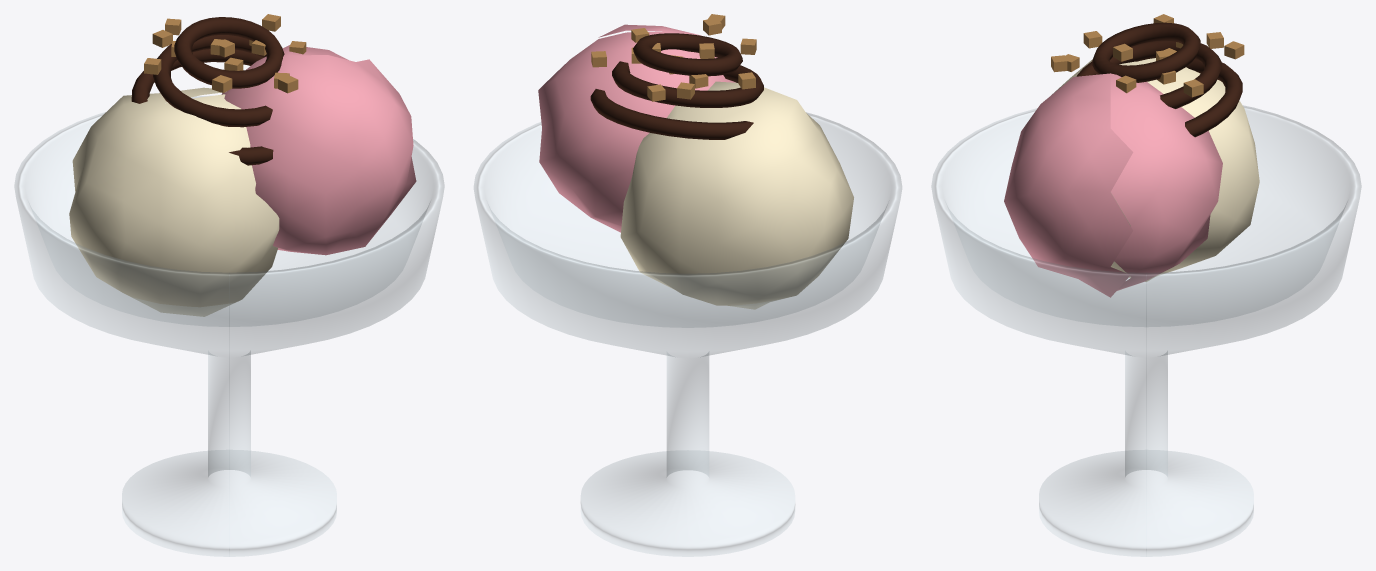
File: sorvete.glb
3 renders of one model, left to right at view 1: azimuth 30°, elevation 25°; view 2: azimuth 150°, elevation 25°; view 3: azimuth 270°, elevation 25°, orthographic.
Visible parts, largest first — view 1: sorvete; view 2: sorvete; view 3: sorvete.
Boxes of the visible parts, left/top/right/bottom form: sorvete: left=14, top=14, right=444, bottom=556; sorvete: left=474, top=14, right=901, bottom=556; sorvete: left=931, top=14, right=1361, bottom=556.
Bounding box in the file's own units: 0.12 × 0.1459 × 0.12.
